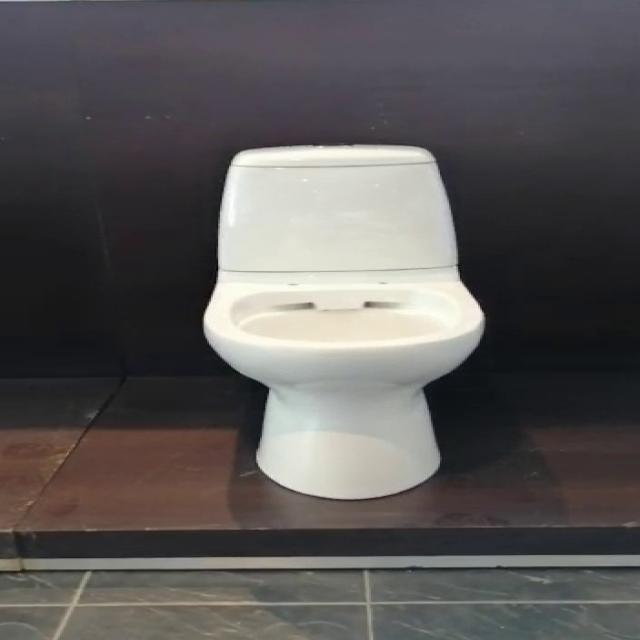toilet: (200, 143, 485, 500)
